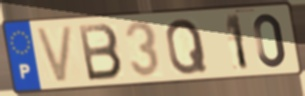0: (251, 12, 287, 70)
1: (224, 12, 251, 74)
3: (123, 19, 163, 80)
B: (76, 22, 125, 84)
Q: (164, 17, 210, 77)
V: (33, 23, 76, 86)
